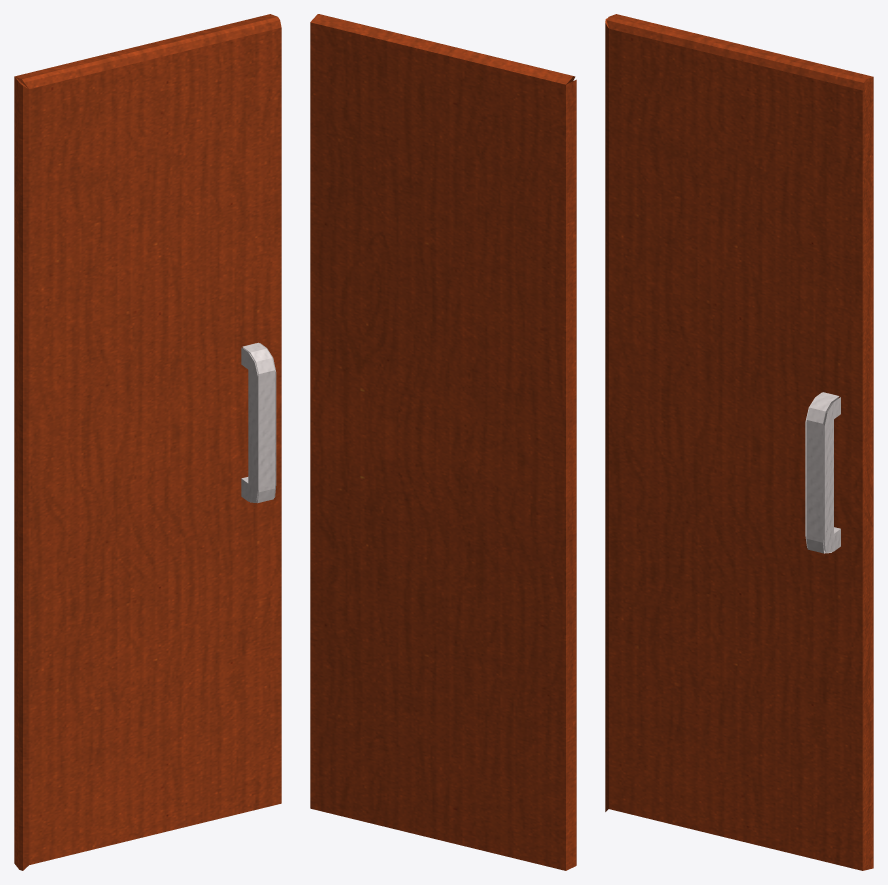
File: in Lemari pintu2.fbx
The picture shows the model from 3 angles, left to right: view 1: azimuth 30°, elevation 25°; view 2: azimuth 150°, elevation 25°; view 3: azimuth 330°, elevation 25°; orthographic projection.
Parts seen in each view (by area): view 1: in Lemari pintu2; view 2: in Lemari pintu2; view 3: in Lemari pintu2.
Boxes of the visible parts, x1,y1,x2,y2 form: in Lemari pintu2: [14, 14, 281, 870]; in Lemari pintu2: [310, 14, 576, 870]; in Lemari pintu2: [605, 14, 873, 870].
Bounding box in the file's own units: 2.74 × 8 × 0.5085.
